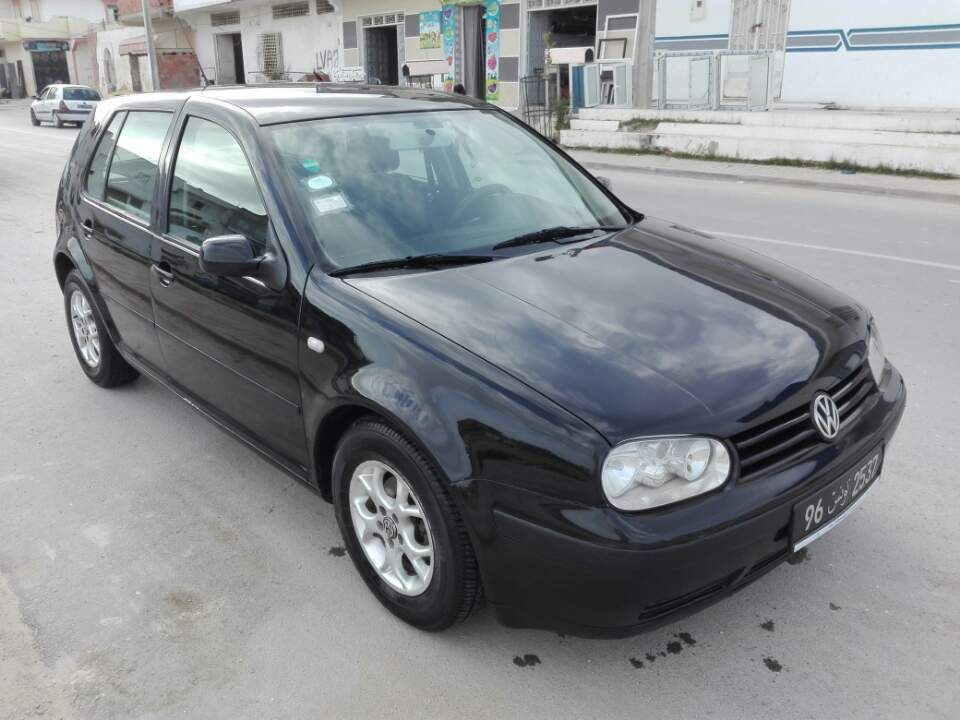LP: (793, 441, 883, 552)
